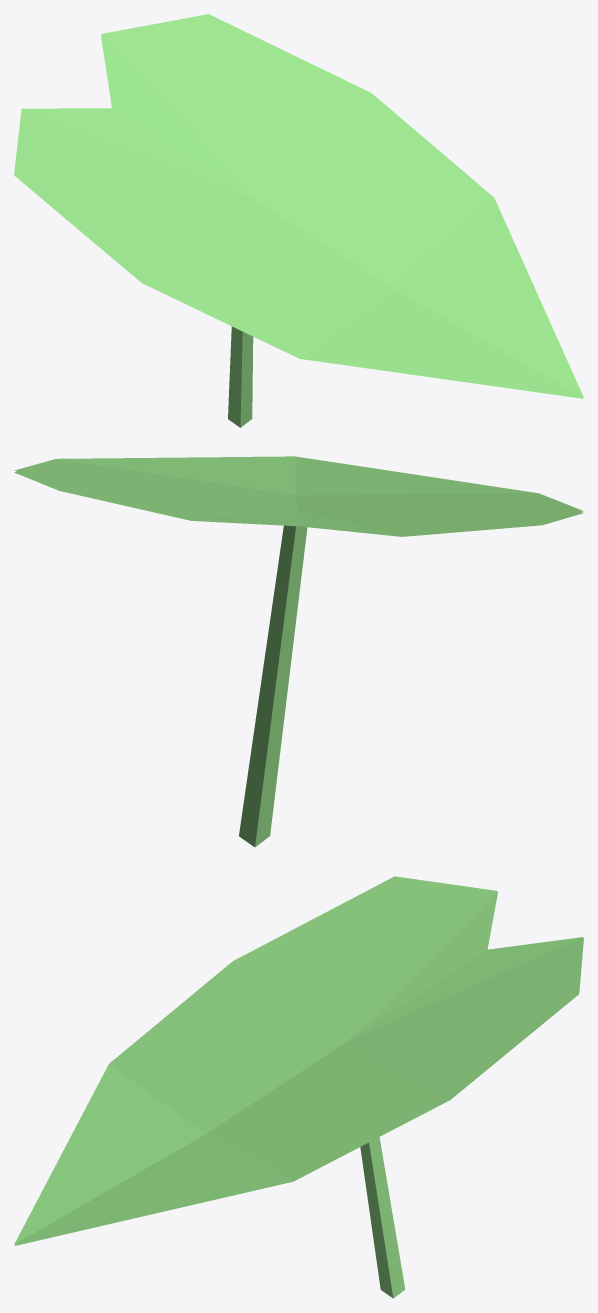
The model's file is Plant_d_TwoS_01.fbx.
3 renders of one model, top to bottom at view 1: azimuth 30°, elevation 25°; view 2: azimuth 150°, elevation 25°; view 3: azimuth 270°, elevation 25°, orthographic. The views are drawn at different scales.
Parts seen in each view (by area): view 1: Plant_d_TwoS_01; view 2: Plant_d_TwoS_01; view 3: Plant_d_TwoS_01.
Part boxes in pixels (x1,y1,x2,y2): Plant_d_TwoS_01: (14, 14, 583, 427); Plant_d_TwoS_01: (14, 456, 583, 847); Plant_d_TwoS_01: (14, 876, 583, 1298).
Bounding box in the file's own units: 32.08 × 23.55 × 36.47.
